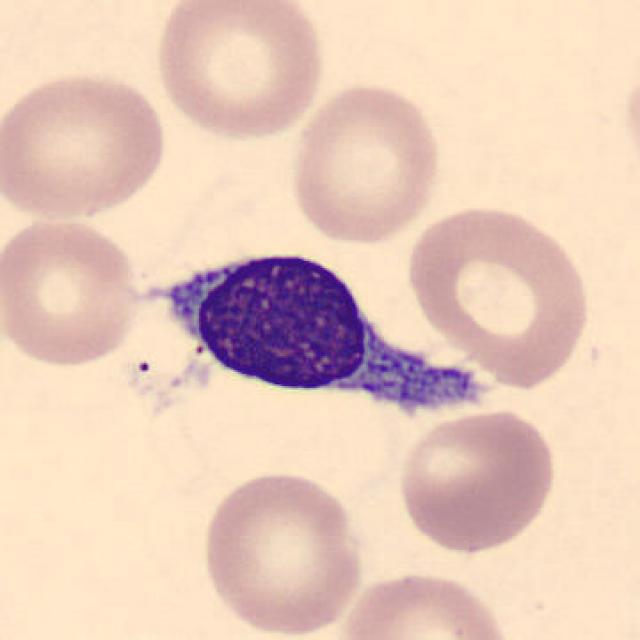Lymphocyte: (163, 249, 491, 419)
RBC: (402, 199, 596, 395), (196, 466, 368, 638), (284, 77, 446, 247), (0, 67, 171, 224), (149, 0, 329, 143), (393, 406, 562, 556), (0, 212, 144, 370), (334, 566, 518, 640)
